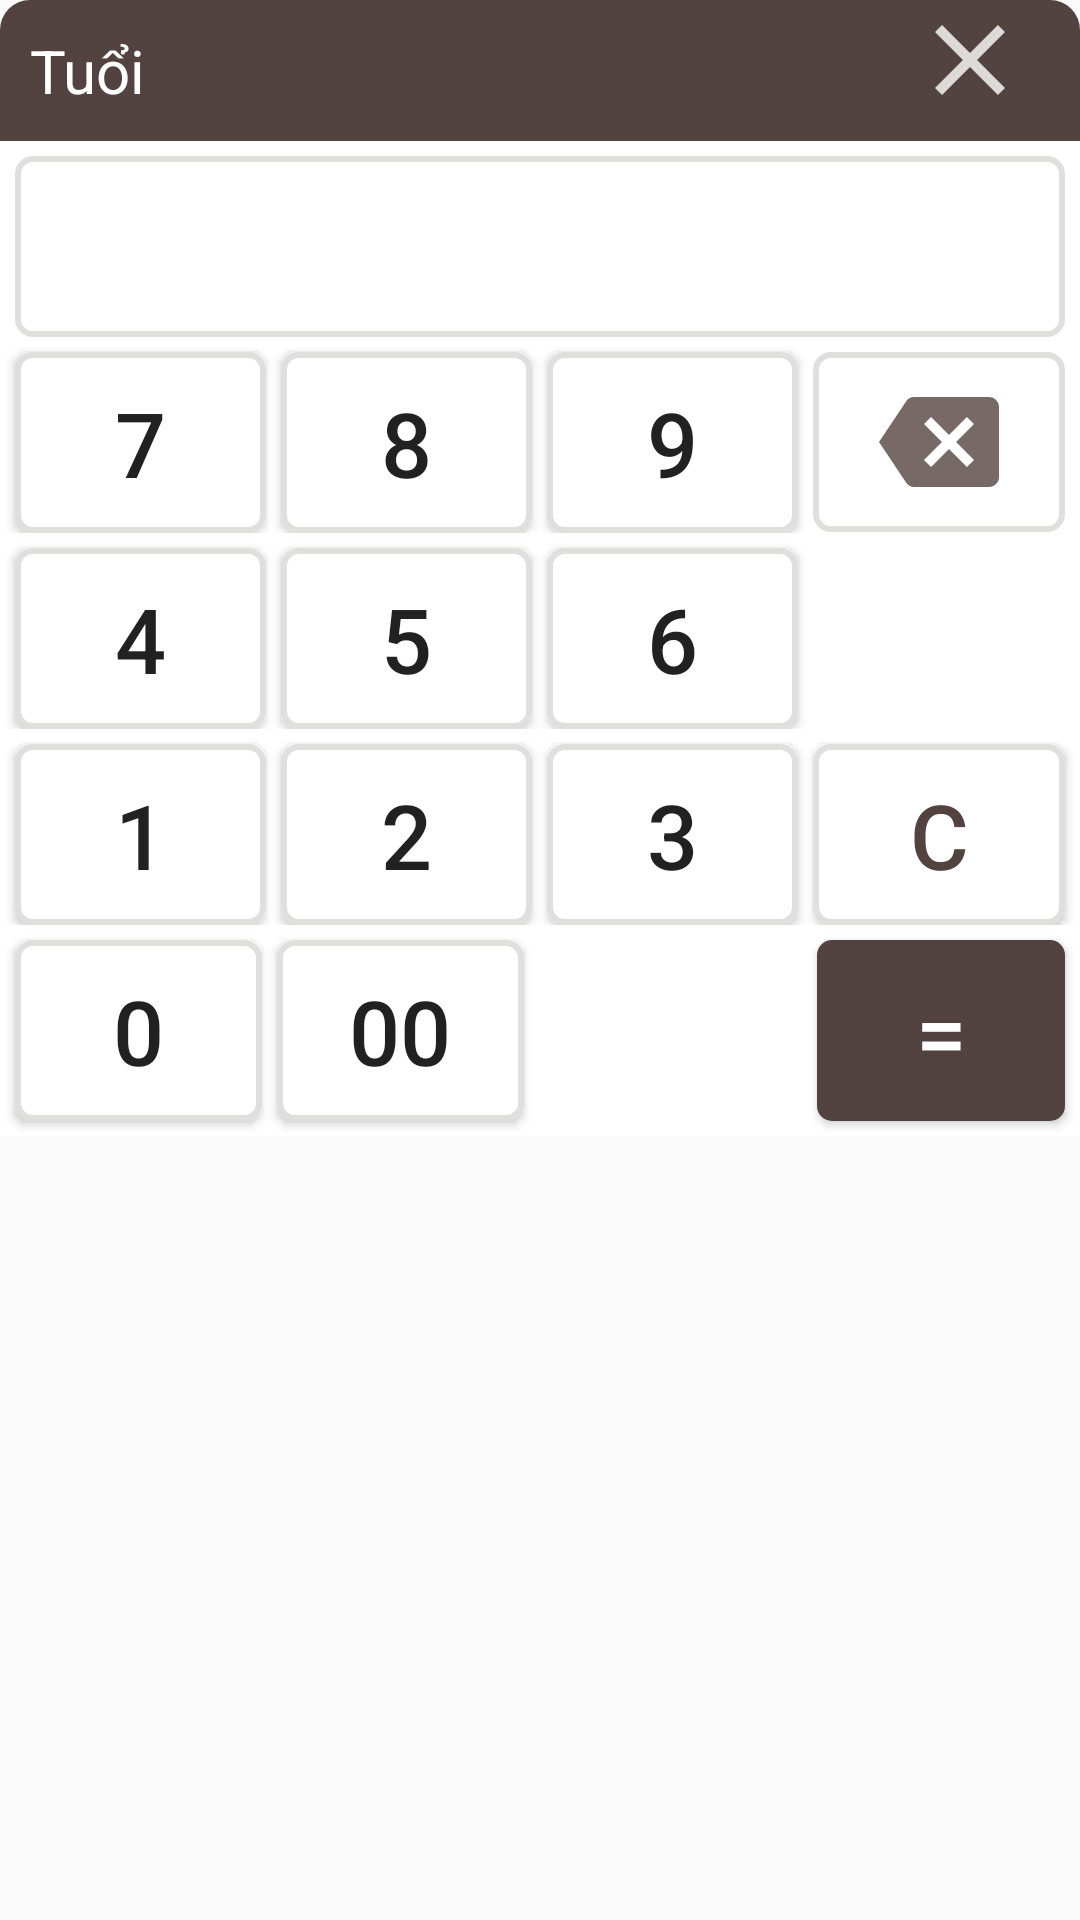

Icons on this 1080w x 1920h Android screen, each with the point to tap as (x=x, y=y):
xoa: (x=939, y=442)
